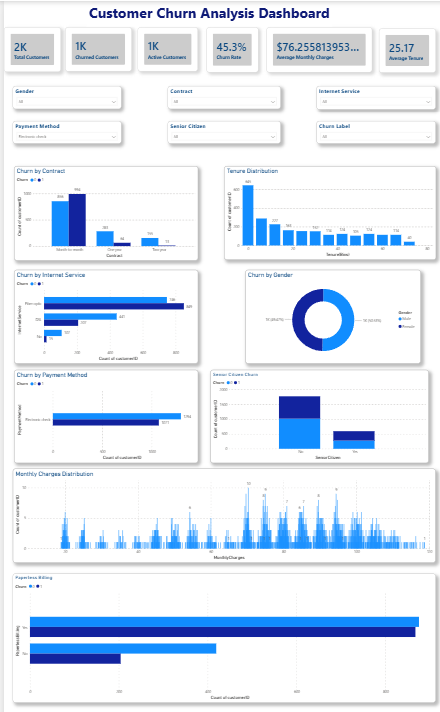

What the dashboard file says about the page in this screenshot:
{"tool":"powerbi","page":{"name":"Page 1","canvas":[1500,2500],"ordinal":0},"visuals":[{"type":"cardVisual","fields":{"Data":["Telco_customer_churn_clean.Total Customers"]},"box":[0,88.3,193.3,151.7],"z":0},{"type":"cardVisual","fields":{"Data":["Telco_customer_churn_clean.Churned Customers"]},"box":[210,90,226.7,150],"z":1000},{"type":"cardVisual","fields":{"Data":["Telco_customer_churn_clean.Active Customers"]},"box":[455,90,205,150],"z":2000},{"type":"cardVisual","fields":{"Data":["Telco_customer_churn_clean.Churn Rate"]},"box":[688.3,90,176.7,153.3],"z":3000},{"type":"cardVisual","fields":{"Data":["Telco_customer_churn_clean.Average Monthly Charges"]},"box":[893.3,90,360,153.3],"z":4000},{"type":"cardVisual","fields":{"Data":["Telco_customer_churn_clean.Average Tenure"]},"box":[1280,93.3,193.3,150],"z":5000},{"type":"clusteredColumnChart","title":"Churn by Contract","fields":{"Series":["Telco_customer_churn_clean.ChurnLabel"],"Category":["Telco_customer_churn_clean.Contract"],"Y":["Sum(Telco_customer_churn_clean.Count)"]},"box":[32,564,628,322],"z":6000},{"type":"clusteredBarChart","title":"Churn by Internet Service","fields":{"Series":["Telco_customer_churn_clean.ChurnLabel"],"Category":["Telco_customer_churn_clean.InternetService"],"Y":["Sum(Telco_customer_churn_clean.Count)"]},"box":[32,916,628,320],"z":7000},{"type":"clusteredBarChart","title":"Churn by Payment Method","fields":{"Series":["Telco_customer_churn_clean.ChurnLabel"],"Category":["Telco_customer_churn_clean.PaymentMethod"],"Y":["Sum(Telco_customer_churn_clean.Count)"]},"box":[32,1258,628,318],"z":8000},{"type":"clusteredColumnChart","title":"Monthly Charges Distribution","fields":{"Category":["Telco_customer_churn_clean.MonthlyCharges"],"Y":["Sum(Telco_customer_churn_clean.Count)"]},"box":[31.7,1591.7,1441.7,321.7],"z":9000},{"type":"clusteredColumnChart","title":"Tenure Distribution","fields":{"Category":["Telco_customer_churn_clean.TenureMonths (bins)"],"Y":["Sum(Telco_customer_churn_clean.Count)"]},"box":[750,563.3,723.3,320],"z":10000},{"type":"donutChart","title":"Churn by Gender","fields":{"Category":["Telco_customer_churn_clean.Gender"],"Y":["Sum(Telco_customer_churn_clean.Count)"]},"box":[823.3,916.7,598.3,320],"z":11000},{"type":"columnChart","title":"Senior Citizen Churn","fields":{"Category":["Telco_customer_churn_clean.SeniorCitizen"],"Series":["Telco_customer_churn_clean.ChurnLabel"],"Y":["Sum(Telco_customer_churn_clean.Count)"]},"box":[701.7,1258.3,745,318.3],"z":12000},{"type":"clusteredBarChart","title":"Paperless Billing","fields":{"Series":["Telco_customer_churn_clean.ChurnLabel"],"Category":["Telco_customer_churn_clean.PaperlessBilling"],"Y":["Sum(Telco_customer_churn_clean.Count)"]},"box":[31.7,1953.3,1441.7,440],"z":13000},{"type":"slicer","title":"Gender","fields":{"Values":["Telco_customer_churn_clean.Gender"]},"box":[31.7,290,370,78.3],"z":14000},{"type":"slicer","title":"Contract","fields":{"Values":["Telco_customer_churn_clean.Contract"]},"box":[556.7,290,385,78.3],"z":15000},{"type":"slicer","title":"Internet Service","fields":{"Values":["Telco_customer_churn_clean.InternetService"]},"box":[1066.7,290,406.7,80],"z":16000},{"type":"slicer","title":"Payment Method","fields":{"Values":["Telco_customer_churn_clean.PaymentMethod"]},"box":[31.7,410,370,76.7],"z":17000},{"type":"slicer","title":"Senior Citizen","fields":{"Values":["Telco_customer_churn_clean.SeniorCitizen"]},"box":[556.7,410,385,76.7],"z":18000},{"type":"slicer","title":"Churn Label","fields":{"Values":["Telco_customer_churn_clean.ChurnLabel"]},"box":[1066.7,410,406.7,76.7],"z":19000},{"type":"textbox","box":[282.5,0,837.5,87.5],"z":20000}]}

Visuals, with their boxes in screenshot pixels (x1, y1, x2, y2), scaled from the page's 1500x2500 canvas onto the 440x712 screenshot:
cardVisual - Telco_customer_churn_clean.Total Customers: l=0, t=25, r=57, b=68
cardVisual - Telco_customer_churn_clean.Churned Customers: l=62, t=26, r=128, b=68
cardVisual - Telco_customer_churn_clean.Active Customers: l=133, t=26, r=194, b=68
cardVisual - Telco_customer_churn_clean.Churn Rate: l=202, t=26, r=254, b=69
cardVisual - Telco_customer_churn_clean.Average Monthly Charges: l=262, t=26, r=368, b=69
cardVisual - Telco_customer_churn_clean.Average Tenure: l=375, t=27, r=432, b=69
"Churn by Contract" clusteredColumnChart: l=9, t=161, r=194, b=252
"Churn by Internet Service" clusteredBarChart: l=9, t=261, r=194, b=352
"Churn by Payment Method" clusteredBarChart: l=9, t=358, r=194, b=449
"Monthly Charges Distribution" clusteredColumnChart: l=9, t=453, r=432, b=545
"Tenure Distribution" clusteredColumnChart: l=220, t=160, r=432, b=252
"Churn by Gender" donutChart: l=242, t=261, r=417, b=352
"Senior Citizen Churn" columnChart: l=206, t=358, r=424, b=449
"Paperless Billing" clusteredBarChart: l=9, t=556, r=432, b=682
"Gender" slicer: l=9, t=83, r=118, b=105
"Contract" slicer: l=163, t=83, r=276, b=105
"Internet Service" slicer: l=313, t=83, r=432, b=105
"Payment Method" slicer: l=9, t=117, r=118, b=139
"Senior Citizen" slicer: l=163, t=117, r=276, b=139
"Churn Label" slicer: l=313, t=117, r=432, b=139
textbox: l=83, t=0, r=329, b=25
